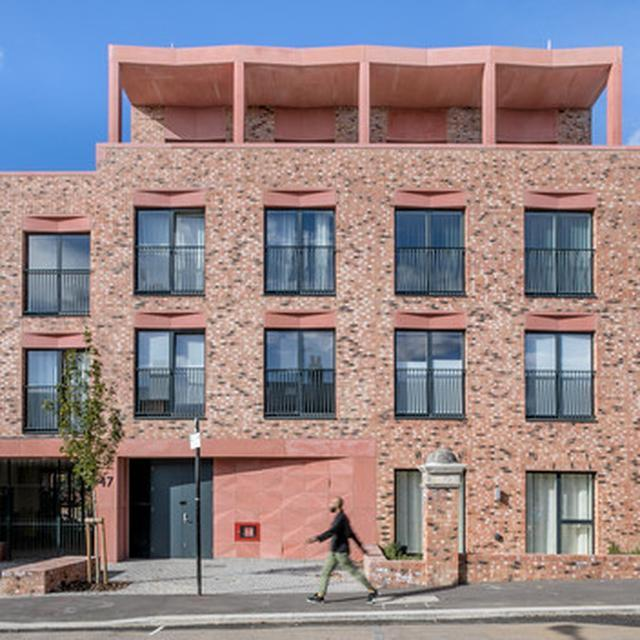building: (1, 39, 640, 574)
